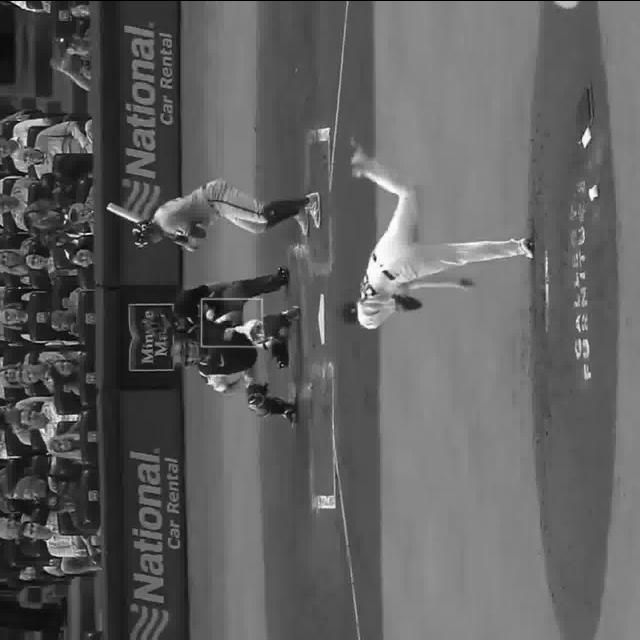base: (315, 296, 327, 346)
baseball: (207, 308, 214, 318)
baseball_glove: (196, 324, 222, 353), (395, 296, 421, 312)
bat: (101, 199, 200, 254)
shoe: (356, 146, 378, 176), (308, 190, 320, 228), (516, 238, 536, 258), (296, 209, 310, 233), (276, 266, 292, 284), (287, 411, 299, 425), (285, 309, 299, 319)
